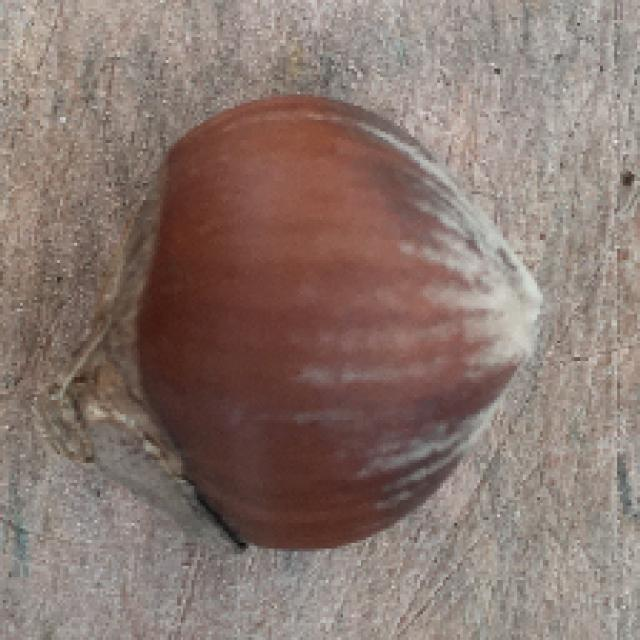damagedHazelnut: (76, 92, 546, 555)
